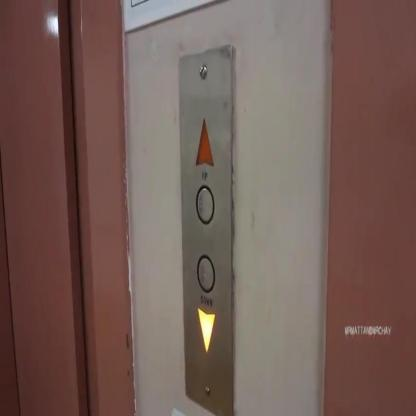empty: (195, 184, 215, 224), (196, 252, 215, 294)
